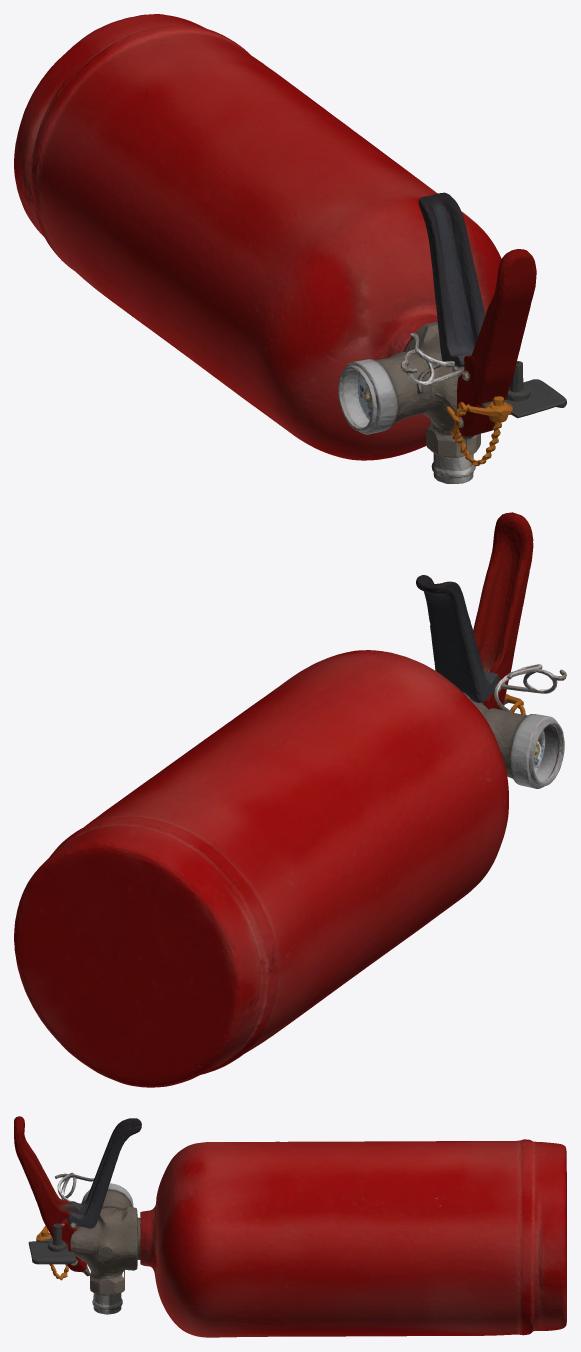
File: refined.glb
The picture shows the model from 3 angles, top to bottom: view 1: azimuth 30°, elevation 25°; view 2: azimuth 150°, elevation 25°; view 3: azimuth 270°, elevation 25°; orthographic projection. The views are drawn at different scales.
Visible parts, largest first — view 1: world; view 2: world; view 3: world.
Part boxes in pixels (x1,y1,x2,y2): world: [14, 14, 566, 483]; world: [14, 512, 566, 1087]; world: [14, 1116, 566, 1337].
Size of the model in its own units: 0.3586 by 0.4208 by 1.
Materials: 1 (1 with a texture image).
